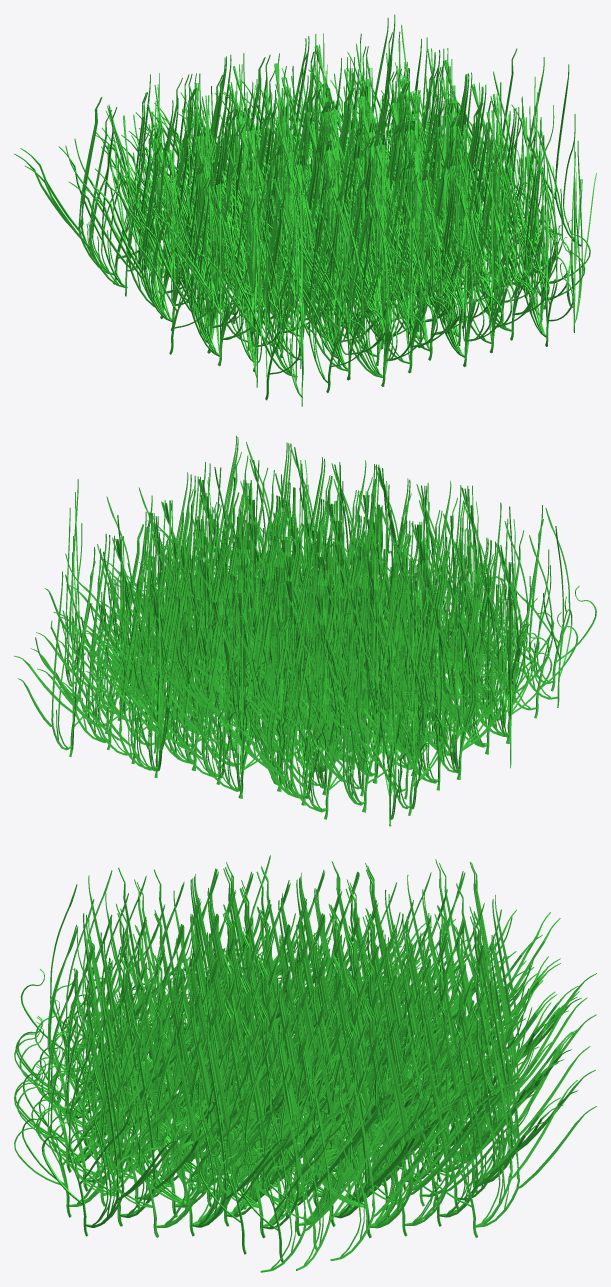
Rendered from uploads_files_3153011_grass_set_1.fbx.
3 views of the same model, one above another, from view 1: azimuth 30°, elevation 25°; view 2: azimuth 150°, elevation 25°; view 3: azimuth 270°, elevation 25° (orthographic). The views are drawn at different scales.
Parts seen in each view (by area): view 1: grass2.235, grass2.223, grass2.427, grass2.449, grass2.219, grass2.464, grass2.231, grass2.470, grass2.457, grass1.117, grass1.454, grass2.229 (+58 smaller); view 2: grass2.222, grass2.072, grass2.051, grass2.312, grass2.315, grass2.053, grass2.216, grass2.048, grass2.057, grass2.318, grass2.215, grass2.221 (+62 smaller); view 3: grass2.305, grass2.420, grass2.210, grass2.048, grass2.304, grass2.052, grass2.054, grass2.088, grass2.208, grass2.408, grass2.053, grass2.202 (+76 smaller).
Boxes of the visible parts, left/top/right/bottom form: grass2.235: left=86, top=143, right=172, bottom=321; grass2.223: left=25, top=110, right=127, bottom=287; grass2.427: left=138, top=177, right=219, bottom=356; grass2.449: left=197, top=199, right=297, bottom=377; grass2.219: left=14, top=98, right=113, bottom=275; grass2.464: left=282, top=199, right=383, bottom=377; grass2.231: left=68, top=131, right=156, bottom=307; grass2.470: left=294, top=198, right=382, bottom=376; grass2.457: left=246, top=194, right=348, bottom=371; grass1.117: left=126, top=175, right=212, bottom=354; grass1.454: left=230, top=220, right=301, bottom=400; grass2.229: left=92, top=142, right=170, bottom=319; grass2.222: left=229, top=630, right=325, bottom=810; grass2.072: left=137, top=608, right=238, bottom=789; grass2.051: left=37, top=575, right=133, bottom=755; grass2.312: left=56, top=588, right=155, bottom=768; grass2.315: left=123, top=595, right=218, bottom=776; grass2.053: left=14, top=561, right=108, bottom=740; grass2.216: left=269, top=633, right=326, bottom=812; grass2.048: left=17, top=571, right=71, bottom=750; grass2.057: left=213, top=617, right=301, bottom=795; grass2.318: left=87, top=591, right=155, bottom=770; grass2.215: left=315, top=626, right=365, bottom=805; grass2.221: left=306, top=626, right=362, bottom=804; grass2.305: left=330, top=1061, right=448, bottom=1260; grass2.420: left=260, top=1072, right=382, bottom=1272; grass2.210: left=155, top=1031, right=273, bottom=1227; grass2.048: left=475, top=1029, right=596, bottom=1227; grass2.304: left=296, top=1066, right=390, bottom=1270; grass2.052: left=404, top=1029, right=523, bottom=1225; grass2.054: left=473, top=1024, right=577, bottom=1227; grass2.088: left=191, top=1033, right=287, bottom=1227; grass2.208: left=84, top=1033, right=176, bottom=1227; grass2.408: left=369, top=1032, right=484, bottom=1228; grass2.053: left=439, top=1022, right=547, bottom=1217; grass2.202: left=83, top=1032, right=189, bottom=1225.
Bounding box in the file's own units: 159 × 63.41 × 161.
